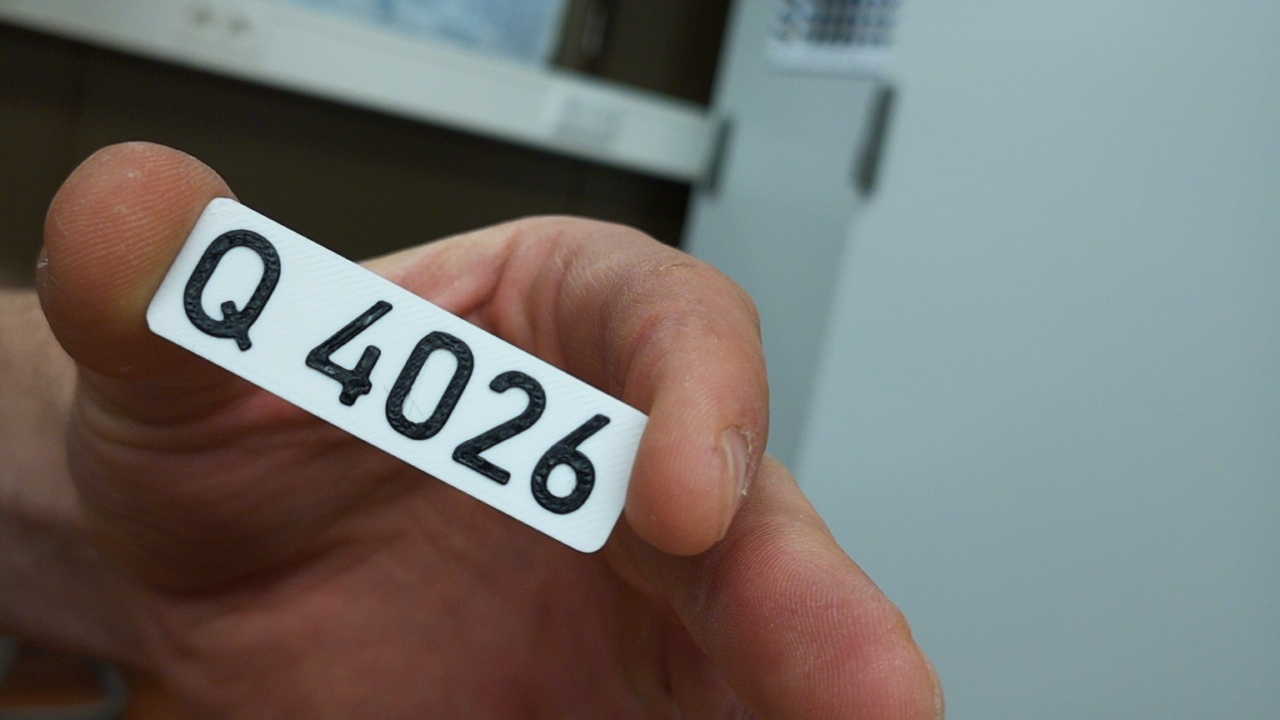license_plate: (143, 191, 657, 556)
